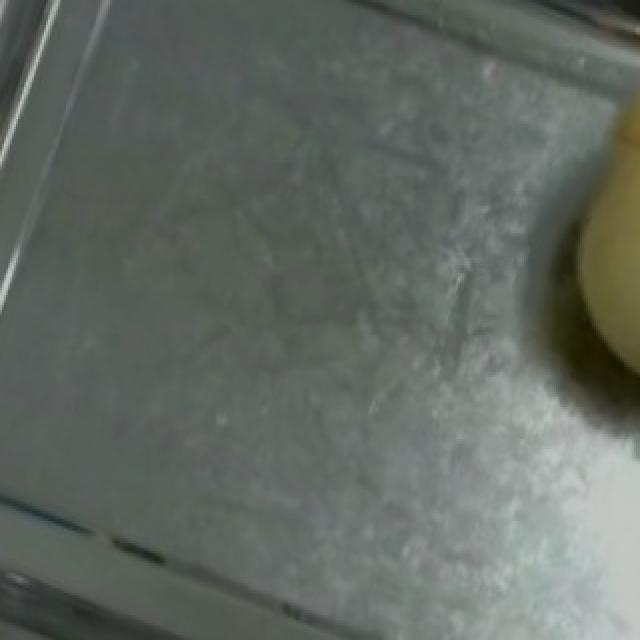Fruit: (530, 64, 640, 412)
